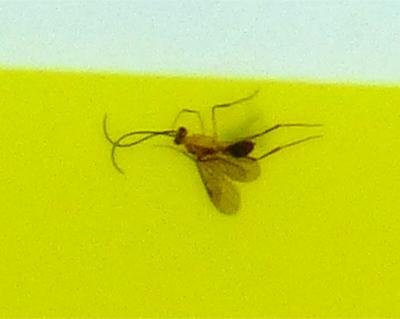Hymenoptera: (100, 100, 300, 219)
